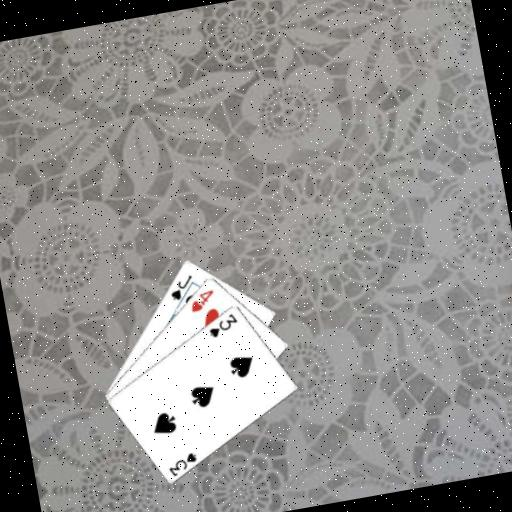3S: (203, 309, 241, 340), (164, 448, 201, 478)
4H: (185, 285, 218, 313)
JS: (164, 271, 197, 303)
